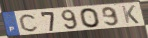7: (39, 11, 55, 32)
9: (60, 9, 79, 30), (101, 6, 120, 27)
C: (19, 13, 40, 33)
K: (121, 5, 141, 25)
O: (79, 7, 102, 29)
